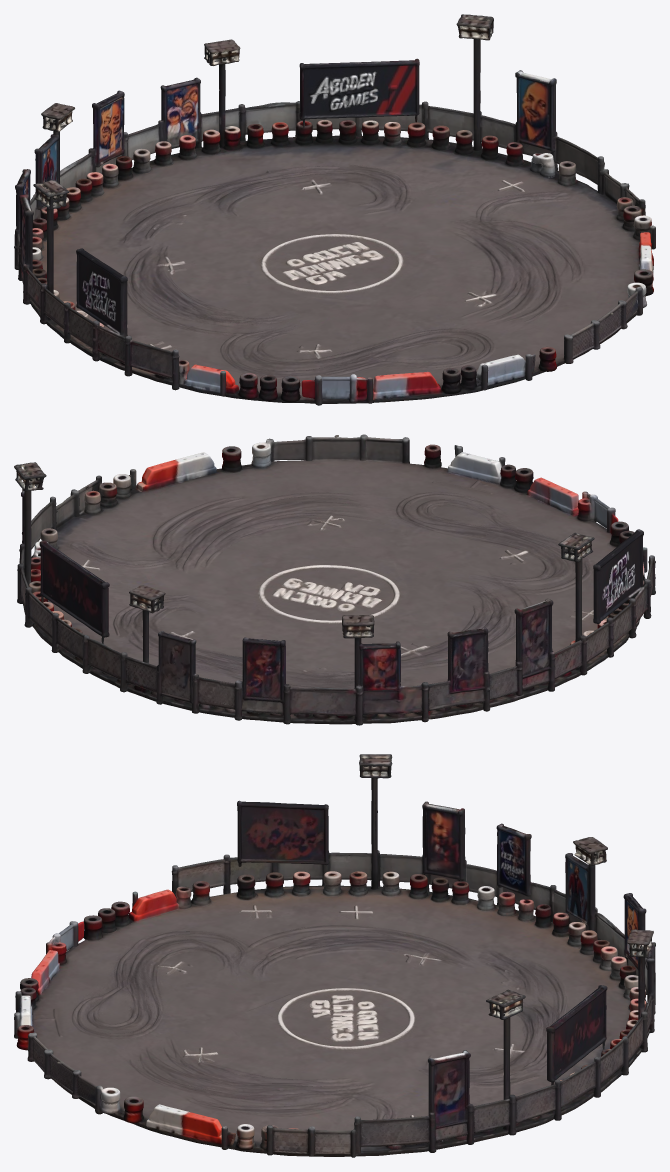
The model's file is arena_custom_ar_full_quality.glb.
The picture shows the model from 3 angles, top to bottom: view 1: azimuth 30°, elevation 25°; view 2: azimuth 150°, elevation 25°; view 3: azimuth 270°, elevation 25°; orthographic projection.
Visible parts, largest first — view 1: tripo_node_1c4698d4-04e6-41d8-9cfa-2d7835a82839; view 2: tripo_node_1c4698d4-04e6-41d8-9cfa-2d7835a82839; view 3: tripo_node_1c4698d4-04e6-41d8-9cfa-2d7835a82839.
Boxes of the visible parts, <box> form: tripo_node_1c4698d4-04e6-41d8-9cfa-2d7835a82839: <box>14,14,655,405</box>; tripo_node_1c4698d4-04e6-41d8-9cfa-2d7835a82839: <box>14,434,655,725</box>; tripo_node_1c4698d4-04e6-41d8-9cfa-2d7835a82839: <box>14,754,655,1157</box>.
Size of the model in its own units: 1 by 0.232 by 0.996.
1 material, 1 textured.
